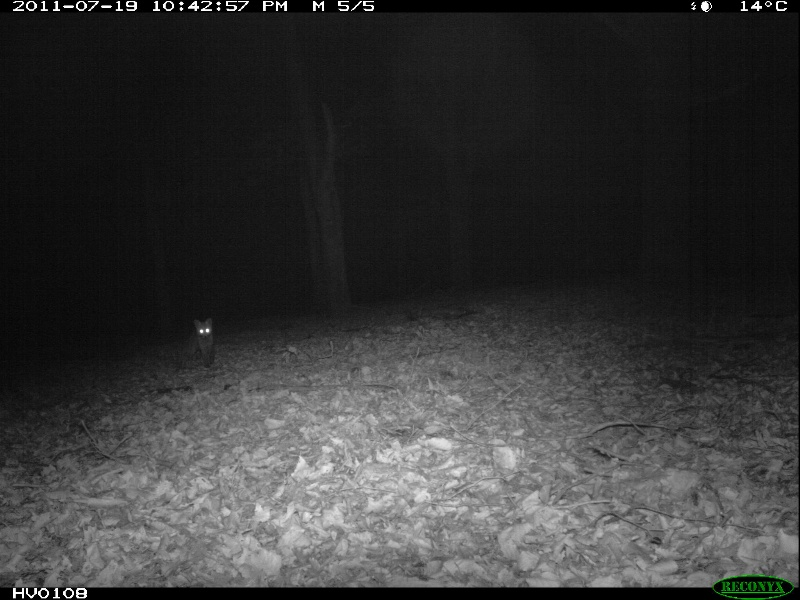fox: (178, 319, 216, 365)
